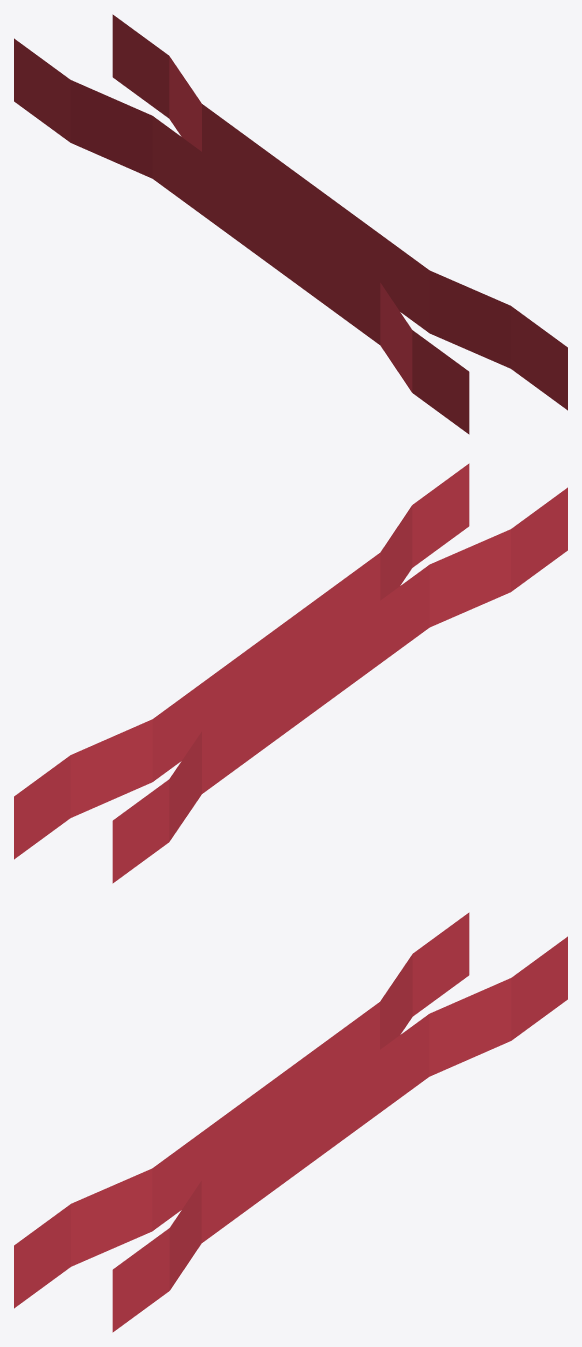
The model's file is narrow_collision.fbx.
The picture shows the model from 3 angles, top to bottom: view 1: azimuth 30°, elevation 25°; view 2: azimuth 150°, elevation 25°; view 3: azimuth 330°, elevation 25°; orthographic projection.
Visible parts, largest first — view 1: narrow_collision; view 2: narrow_collision; view 3: narrow_collision.
Boxes of the visible parts, x1=… form: narrow_collision: x1=14, y1=14, x2=567, y2=434; narrow_collision: x1=14, y1=463, x2=567, y2=883; narrow_collision: x1=14, y1=912, x2=567, y2=1332.
Bounding box in the file's own units: 1000 × 611 × 7991.
